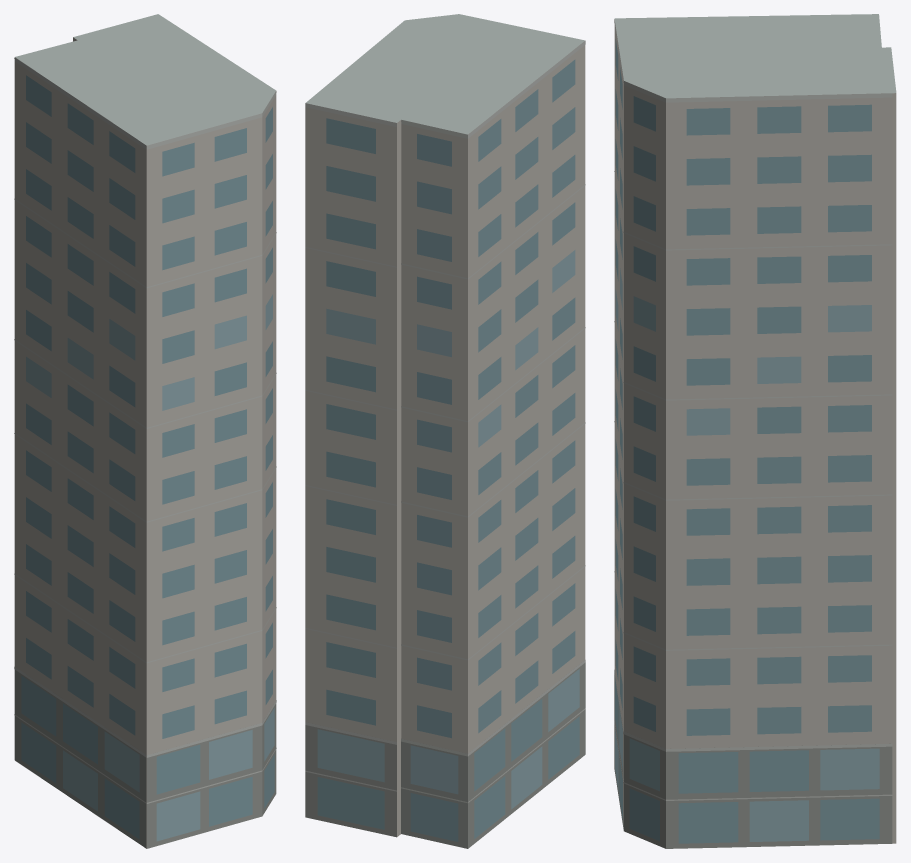
File: survey-upis-32735327.glb
The picture shows the model from 3 angles, left to right: view 1: azimuth 30°, elevation 25°; view 2: azimuth 150°, elevation 25°; view 3: azimuth 270°, elevation 25°; orthographic projection. The views are drawn at different scales.
Parts seen in each view (by area): view 1: survey-upis-32735327.tmp; view 2: survey-upis-32735327.tmp; view 3: survey-upis-32735327.tmp.
Part boxes in pixels (x1,y1,x2,y2): survey-upis-32735327.tmp: [14, 14, 276, 848]; survey-upis-32735327.tmp: [305, 14, 585, 848]; survey-upis-32735327.tmp: [614, 14, 896, 848].
Bounding box in the file's own units: 10.02 × 41.46 × 14.14.
